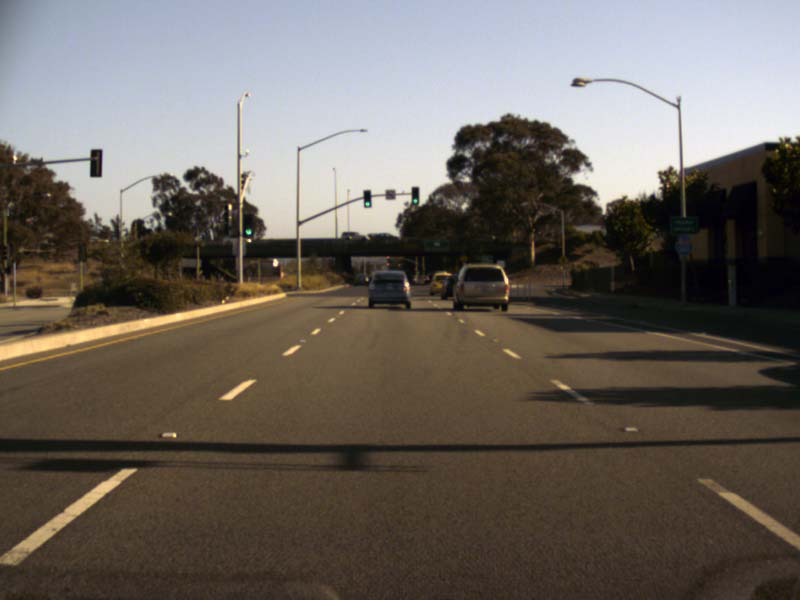Green: (243, 214, 252, 237), (362, 189, 371, 208), (411, 186, 418, 204)
